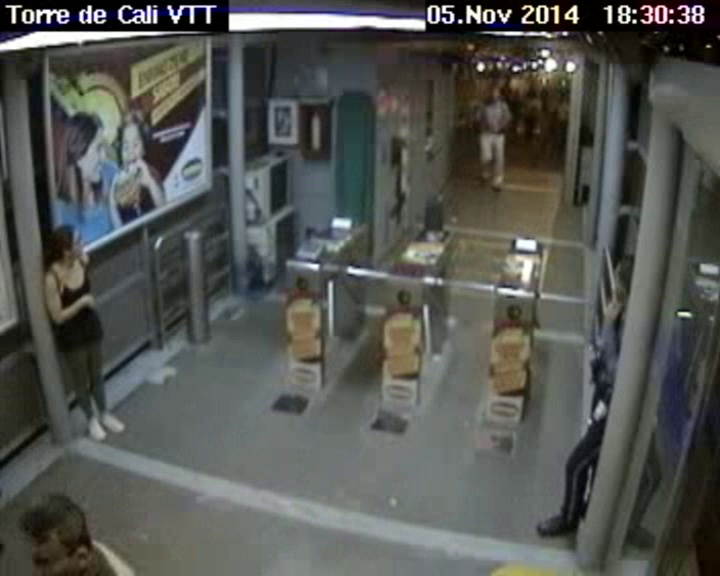person: (13, 483, 101, 569), (606, 252, 646, 308), (43, 213, 86, 265), (486, 87, 501, 104)
